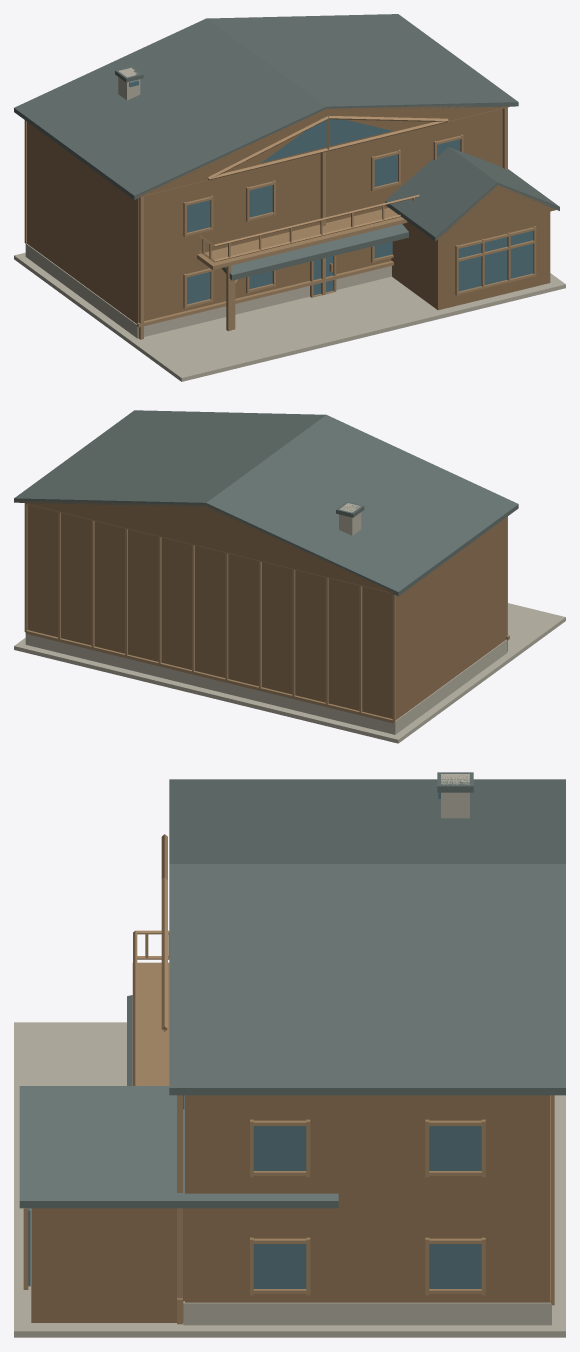
File: house_large_01.glb
3 views of the same model, one above another, from view 1: azimuth 30°, elevation 25°; view 2: azimuth 150°, elevation 25°; view 3: azimuth 270°, elevation 25° (orthographic). The views are drawn at different scales.
Parts seen in each view (by area): view 1: House_large_01; view 2: House_large_01; view 3: House_large_01.
Boxes of the visible parts, <box> form: House_large_01: <box>14,14,565,381</box>; House_large_01: <box>14,410,565,743</box>; House_large_01: <box>14,772,565,1337</box>.
Size of the model in its own units: 18.8 by 9.06 by 14.2.
